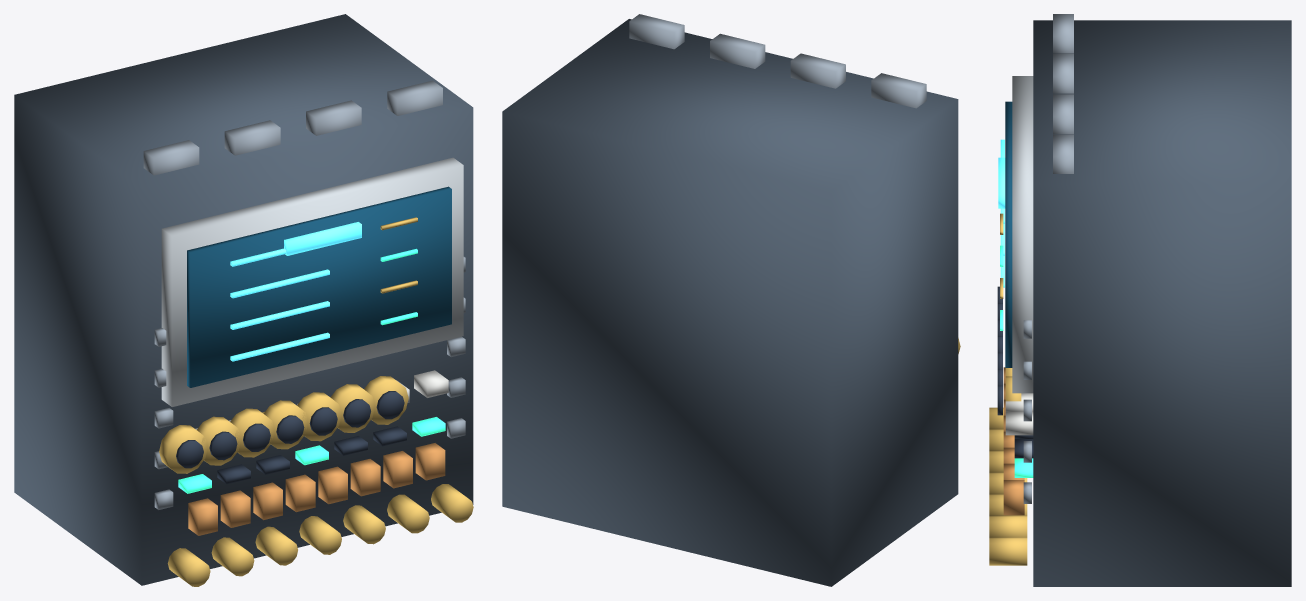
The model's file is 70_L87_MagneticBearingSafetyPLC.glb.
3 renders of one model, left to right at view 1: azimuth 30°, elevation 25°; view 2: azimuth 150°, elevation 25°; view 3: azimuth 270°, elevation 25°, orthographic.
Visible parts, largest first — view 1: L87_MagneticBearingSafetyPLC, L87_MagneticBearingSafetyPLC_Part_0010, L87_MagneticBearingSafetyPLC_Part_0011, L87_MagneticBearingSafetyPLC_Part_0012, L87_MagneticBearingSafetyPLC_Part_0016, L87_MagneticBearingSafetyPLC_Part_0020, L87_MagneticBearingSafetyPLC_Part_0018, L87_MagneticBearingSafetyPLC_Part_0014, L87_MagneticBearingSafetyPLC_Part_0024, L87_MagneticBearingSafetyPLC_Part_0022, L87_MagneticBearingSafetyPLC_Part_0021, L87_MagneticBearingSafetyPLC_Part_0015 (+5 smaller); view 2: L87_MagneticBearingSafetyPLC, L87_MagneticBearingSafetyPLC_Part_0010; view 3: L87_MagneticBearingSafetyPLC, L87_MagneticBearingSafetyPLC_Part_0010, L87_MagneticBearingSafetyPLC_Part_0011.
Part boxes in pixels (x1=…): L87_MagneticBearingSafetyPLC: x1=14, y1=14, x2=473, y2=586; L87_MagneticBearingSafetyPLC_Part_0010: x1=143, y1=80, x2=442, y2=175; L87_MagneticBearingSafetyPLC_Part_0011: x1=284, y1=222, x2=361, y2=255; L87_MagneticBearingSafetyPLC_Part_0012: x1=159, y1=425, x2=207, y2=473; L87_MagneticBearingSafetyPLC_Part_0016: x1=230, y1=408, x2=274, y2=457; L87_MagneticBearingSafetyPLC_Part_0020: x1=297, y1=392, x2=341, y2=441; L87_MagneticBearingSafetyPLC_Part_0018: x1=263, y1=400, x2=308, y2=449; L87_MagneticBearingSafetyPLC_Part_0014: x1=197, y1=416, x2=241, y2=465; L87_MagneticBearingSafetyPLC_Part_0024: x1=364, y1=376, x2=408, y2=424; L87_MagneticBearingSafetyPLC_Part_0022: x1=330, y1=384, x2=375, y2=432; L87_MagneticBearingSafetyPLC_Part_0021: x1=309, y1=407, x2=337, y2=435; L87_MagneticBearingSafetyPLC_Part_0015: x1=209, y1=431, x2=237, y2=460; L87_MagneticBearingSafetyPLC: x1=502, y1=19, x2=958, y2=586; L87_MagneticBearingSafetyPLC_Part_0010: x1=629, y1=14, x2=926, y2=108; L87_MagneticBearingSafetyPLC: x1=989, y1=20, x2=1291, y2=586; L87_MagneticBearingSafetyPLC_Part_0010: x1=1053, y1=14, x2=1073, y2=173; L87_MagneticBearingSafetyPLC_Part_0011: x1=998, y1=157, x2=1005, y2=208.
Bounding box in the file's own units: 1.04 × 1.24 × 0.8109.
